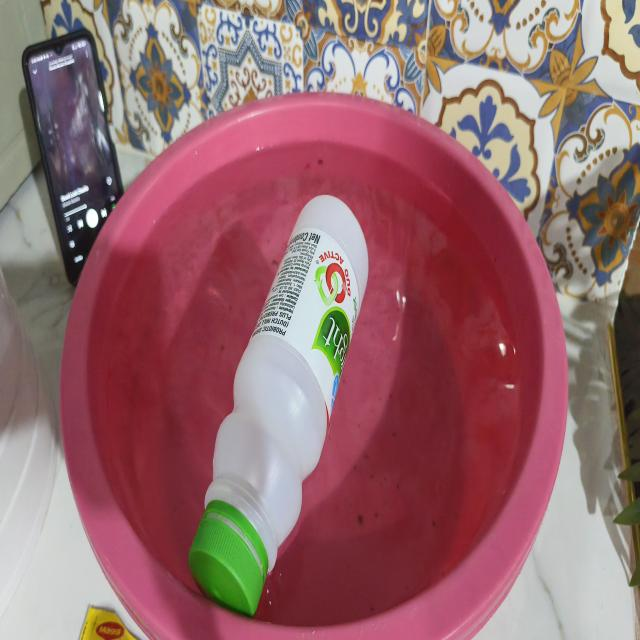Plastic Bottle: (189, 195, 368, 615)
